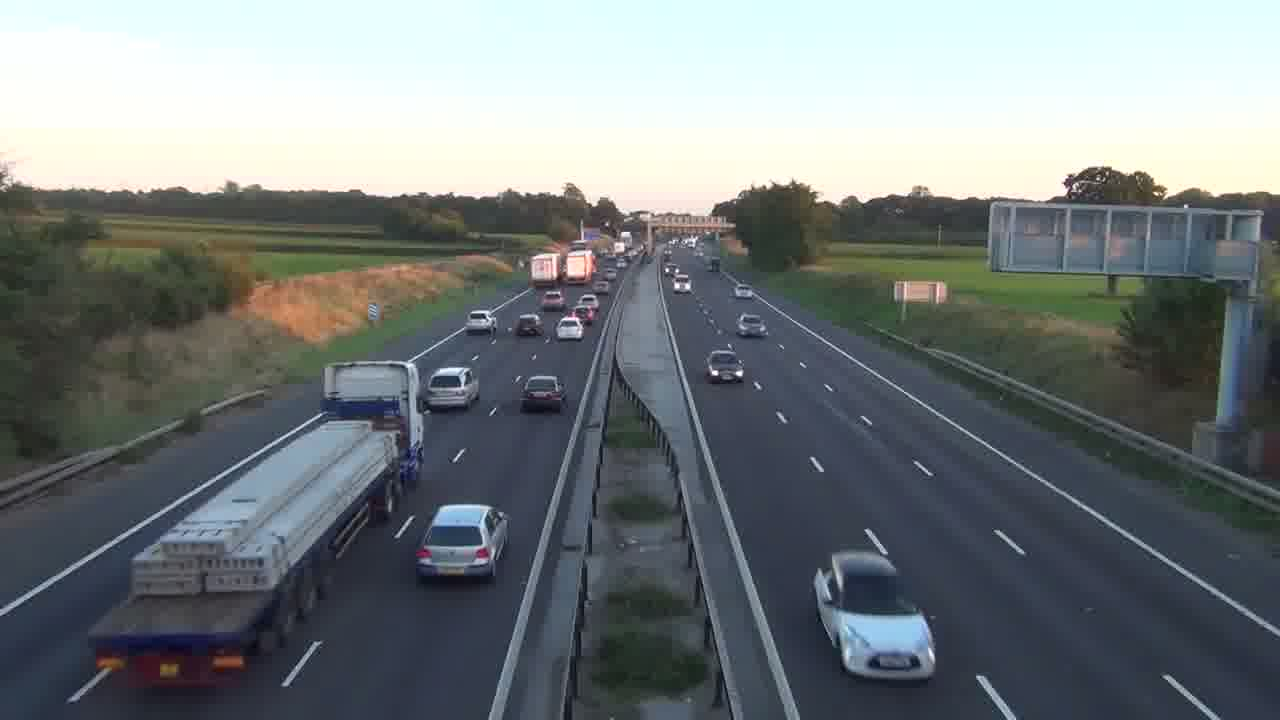car: (812, 549, 938, 683), (415, 502, 510, 584), (422, 365, 480, 411), (522, 374, 566, 413), (704, 348, 745, 383), (736, 313, 769, 339), (512, 313, 543, 337), (555, 315, 583, 341), (539, 289, 566, 311)
truck: (89, 415, 405, 691), (319, 359, 424, 469)
